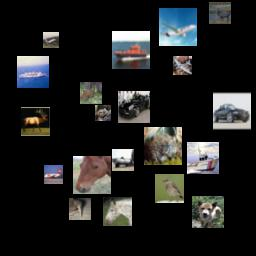airplane: (159, 8, 197, 46), (173, 56, 192, 75), (44, 165, 63, 184), (43, 32, 59, 48)
automobile: (213, 92, 251, 130), (118, 91, 150, 123)
bird: (155, 174, 184, 203), (69, 198, 91, 220)
deer: (21, 107, 50, 136), (80, 82, 102, 104), (209, 2, 231, 24)
dog: (192, 196, 224, 228)
frog: (144, 127, 182, 165), (95, 105, 111, 121)
ship: (112, 31, 150, 69), (187, 142, 219, 174), (17, 56, 49, 88)
truck: (112, 149, 134, 171)
